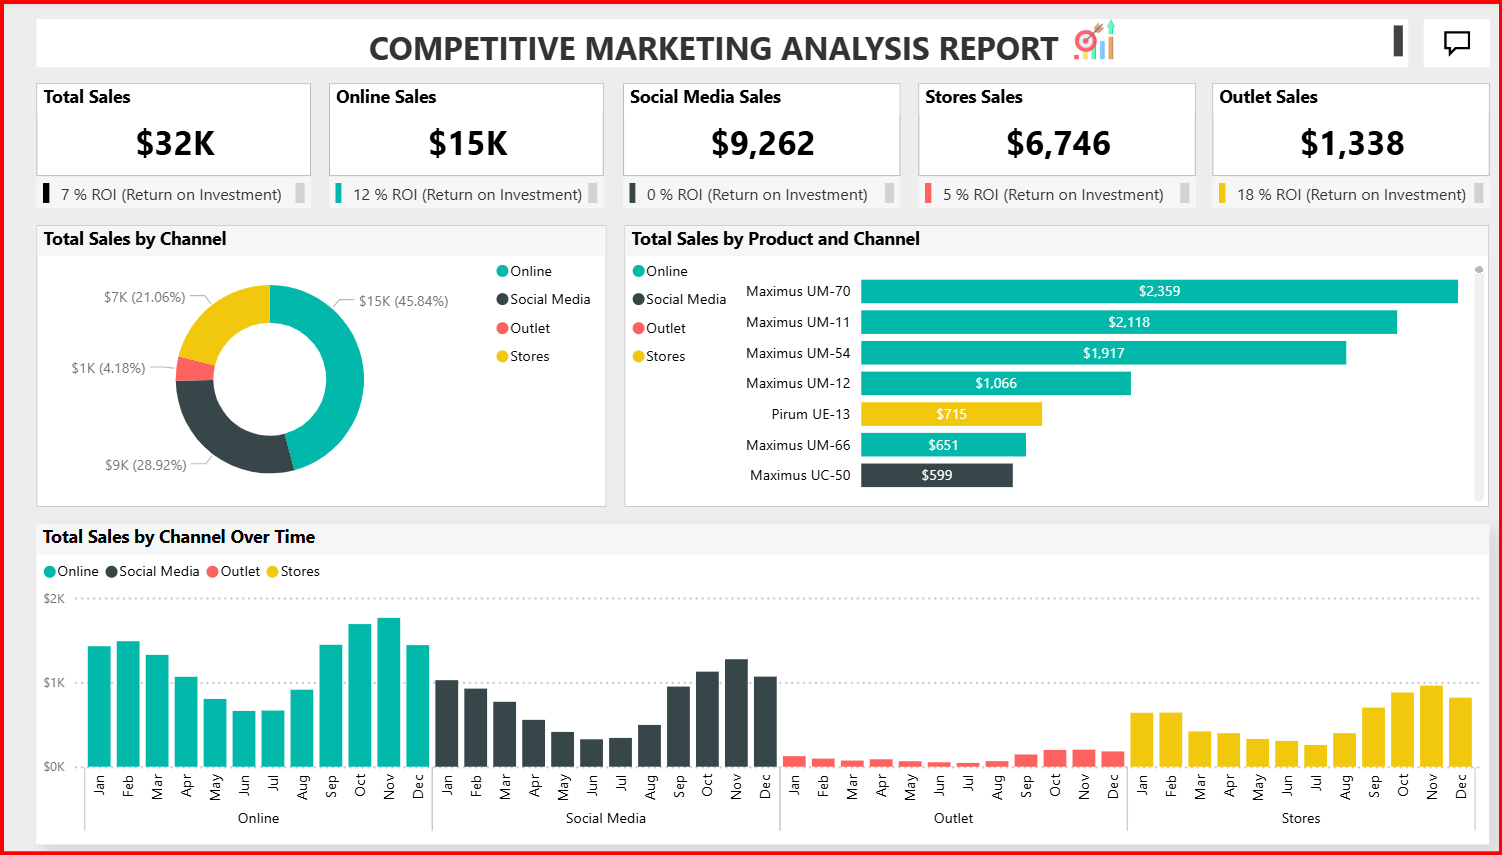

This screenshot's page, from the dashboard's own definition file:
{"tool":"powerbi","page":{"name":"Executive Overview","canvas":[1279,720],"ordinal":0},"visuals":[{"type":"textbox","title":"SALES AND MARKETING","box":[30.2,13.9,1150.1,40.7],"z":0},{"type":"card","title":"Total Sales","fields":{"Values":["KPI.KPI01"]},"box":[30.2,68.5,230,77.8],"z":1000},{"type":"actionButton","box":[1191.9,13.9,55.8,40.7],"z":24000},{"type":"lineStackedColumnComboChart","title":"Total Sales by Channel Over Time","fields":{"Category":["Category.Channel","Date.Months"],"Y":["SalesFact.Total Category Volume"],"Series":["Category.Channel"]},"box":[30.2,438,1217.4,268.3],"z":25000},{"type":"card","title":"Online Sales","fields":{"Values":["KPI.KPI01"]},"box":[275.3,68.5,230,77.8],"z":29000},{"type":"card","title":"Social Media Sales","fields":{"Values":["KPI.KPI01"]},"box":[521.6,68.5,232.3,77.8],"z":30000},{"type":"card","title":"Stores Sales","fields":{"Values":["KPI.KPI01"]},"box":[769,68.5,232.3,77.8],"z":31000},{"type":"card","title":"Outlet Sales","fields":{"Values":["KPI.KPI01"]},"box":[1015.3,68.5,232.3,77.8],"z":32000},{"type":"donutChart","fields":{"Category":["Category.Channel"],"Y":["SalesFact.Total Category Volume"]},"box":[29.9,187,478,236.3],"z":33000},{"type":"barChart","title":"Total Sales by Product and Channel","fields":{"Category":["Product.Product"],"Y":["SalesFact.Total Category Volume"],"Series":["Category.Channel"]},"box":[522.8,187,724.9,235.8],"z":34000},{"type":"multiRowCard","fields":{"Values":["KPI.KPI01"]},"box":[30.2,146.4,230,26.7],"z":35000},{"type":"multiRowCard","fields":{"Values":["KPI.KPI01"]},"box":[275.3,146.4,230,26.7],"z":36000},{"type":"multiRowCard","fields":{"Values":["KPI.KPI01"]},"box":[521.6,146.4,232.3,26.7],"z":37000},{"type":"multiRowCard","fields":{"Values":["KPI.KPI01"]},"box":[769,146.4,232.3,26.7],"z":38000},{"type":"multiRowCard","fields":{"Values":["KPI.KPI01"]},"box":[1015.3,146.4,232.3,26.7],"z":39000},{"type":"image","box":[871.9,7.9,88.8,47.2],"z":40000}]}

Visuals, with their boxes in screenshot pixels (x1, y1, x2, y2), scaled from the page's 1279x720 canvas onto the 1502x855 screenshot:
"SALES AND MARKETING" textbox: box=[35, 17, 1386, 65]
"Total Sales" card: box=[35, 81, 306, 174]
actionButton: box=[1400, 17, 1465, 65]
"Total Sales by Channel Over Time" lineStackedColumnComboChart: box=[35, 520, 1465, 839]
"Online Sales" card: box=[323, 81, 593, 174]
"Social Media Sales" card: box=[613, 81, 885, 174]
"Stores Sales" card: box=[903, 81, 1176, 174]
"Outlet Sales" card: box=[1192, 81, 1465, 174]
donutChart - Category.Channel x SalesFact.Total Category Volume: box=[35, 222, 596, 503]
"Total Sales by Product and Channel" barChart: box=[614, 222, 1465, 502]
multiRowCard - KPI.KPI01: box=[35, 174, 306, 206]
multiRowCard - KPI.KPI01: box=[323, 174, 593, 206]
multiRowCard - KPI.KPI01: box=[613, 174, 885, 206]
multiRowCard - KPI.KPI01: box=[903, 174, 1176, 206]
multiRowCard - KPI.KPI01: box=[1192, 174, 1465, 206]
image: box=[1024, 9, 1128, 65]
